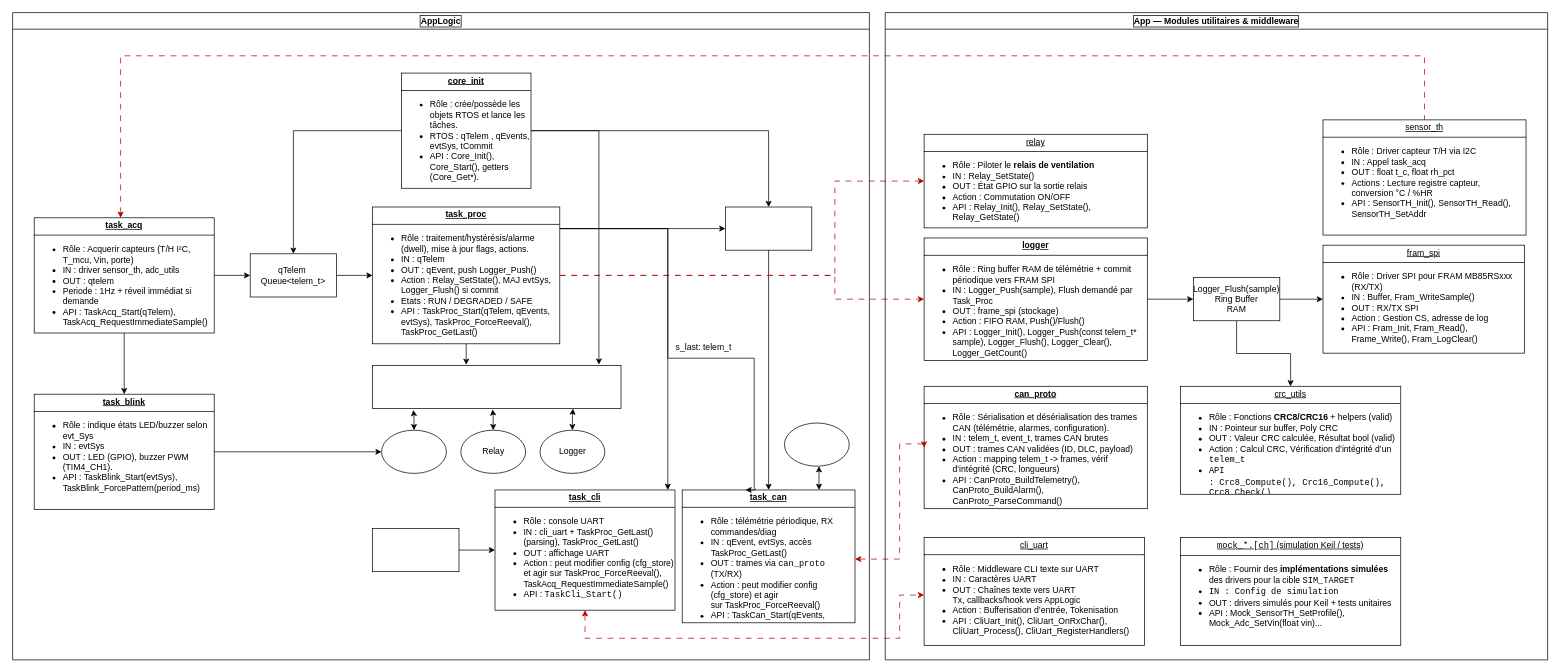
The diagram is 1560 pixels wide and 672 high, and some of its shapes have lost their labels. Each missing label, with the centre of its shape:
CAN: (816,444)
cli_uart: (415,550)
evtSys EventGroup : ALARM | SENSOR_FAULT | DOOR_OPEN | COMMIT: (496,387)
GPIO: (413,451)
qEvent Queue<event_t>: (768,228)
